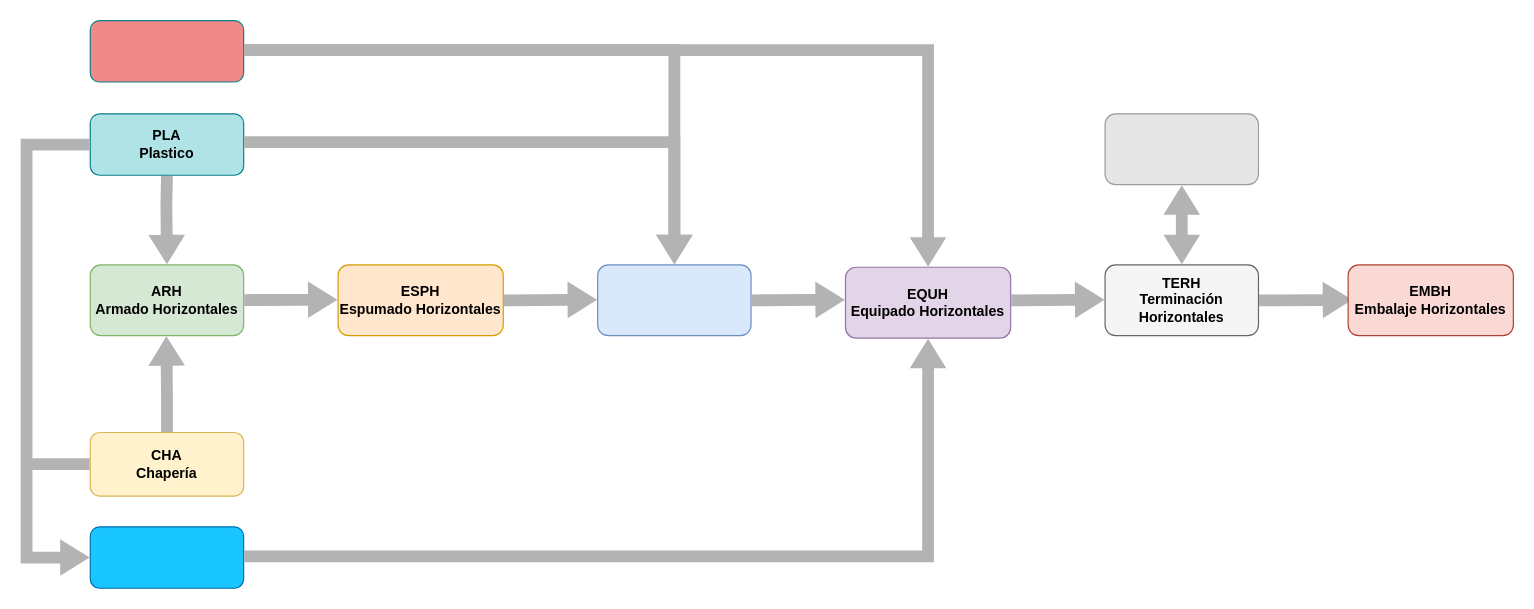
This 1534x609 diagram has some shape labels left out. Here are the shapes that lost their labels. From the top down, the centre of each, then its label:
At [166,50]: "SUBH Subensamble".
At [1181,149]: "CONH Control Horizontales".
At [673,300]: "PEH Post-Espumado Horizontales".
At [166,557]: "PUEH Puertas".
